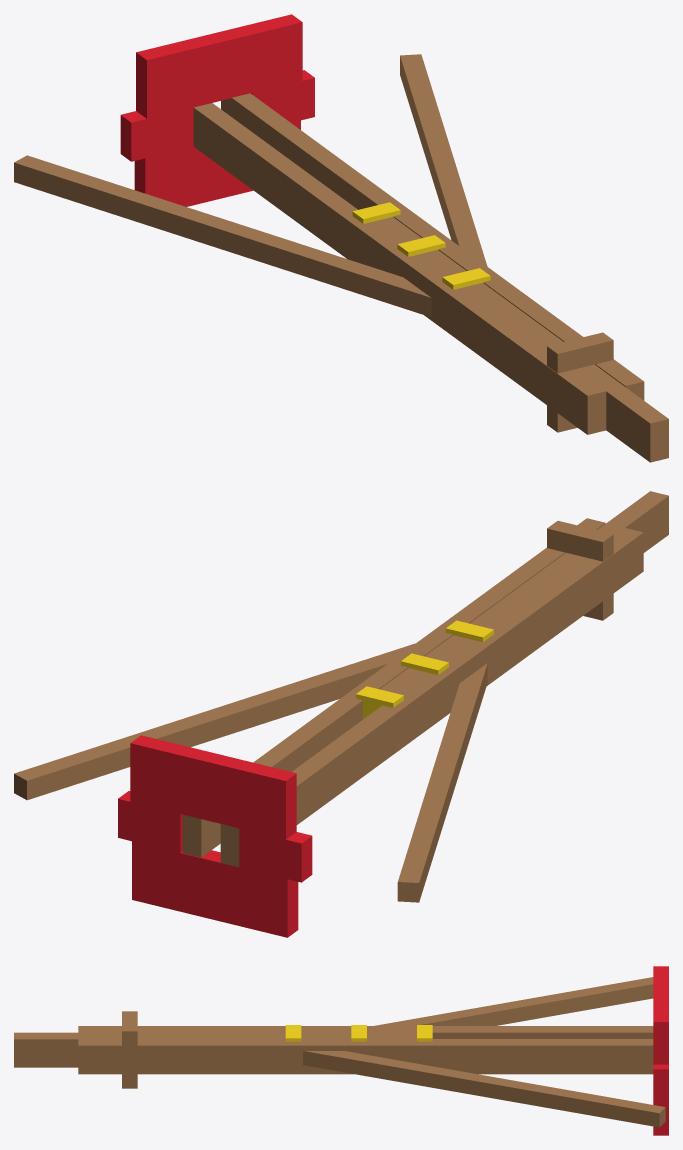
The model's file is tinker.obj.
The picture shows the model from 3 angles, top to bottom: view 1: azimuth 30°, elevation 25°; view 2: azimuth 150°, elevation 25°; view 3: azimuth 270°, elevation 25°; orthographic projection. The views are drawn at different scales.
Parts seen in each view (by area): view 1: group_0_11107152, group_0_15277357, group_0_16768282; view 2: group_0_11107152, group_0_15277357, group_0_16768282; view 3: group_0_11107152, group_0_15277357, group_0_16768282.
Part boxes in pixels (bbox=[...]): group_0_11107152: bbox=[14, 54, 668, 462]; group_0_15277357: bbox=[120, 14, 314, 206]; group_0_16768282: bbox=[352, 202, 490, 289]; group_0_11107152: bbox=[14, 491, 668, 902]; group_0_15277357: bbox=[118, 735, 312, 937]; group_0_16768282: bbox=[356, 620, 493, 719]; group_0_11107152: bbox=[14, 977, 665, 1127]; group_0_15277357: bbox=[653, 966, 668, 1135]; group_0_16768282: bbox=[285, 1025, 432, 1041].
Size of the model in its own units: 261 by 96 by 499.
